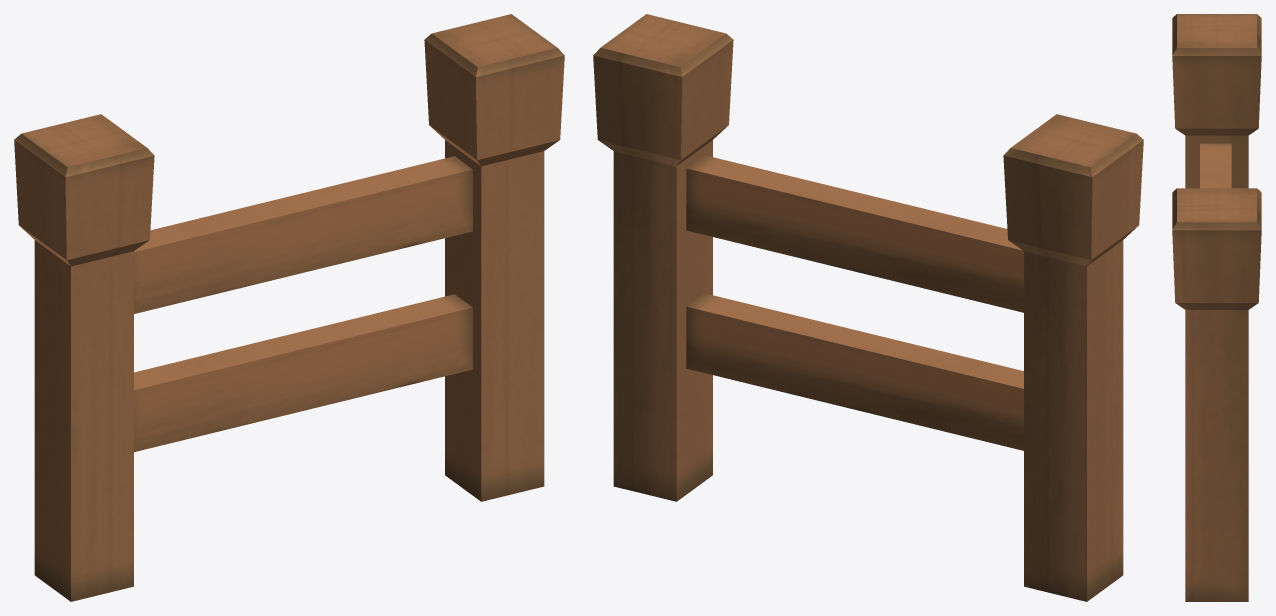
Rendered from Fence 2.fbx.
3 renders of one model, left to right at view 1: azimuth 30°, elevation 25°; view 2: azimuth 150°, elevation 25°; view 3: azimuth 270°, elevation 25°, orthographic. The views are drawn at different scales.
Visible parts, largest first — view 1: Fence 2; view 2: Fence 2; view 3: Fence 2.
Boxes of the visible parts, x1,y1,x2,y2 form: Fence 2: (14, 14, 564, 601); Fence 2: (593, 14, 1143, 601); Fence 2: (1172, 14, 1261, 601).
Size of the model in its own units: 88.3 by 74.4 by 15.74.
